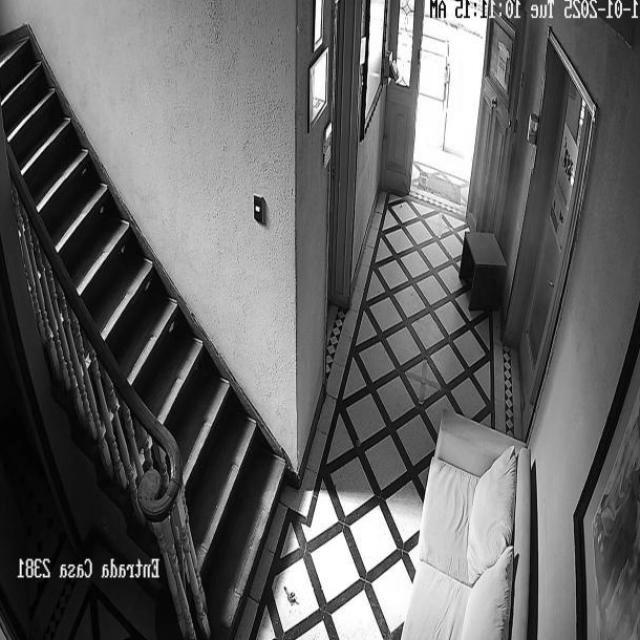fire: (464, 97, 531, 267)
